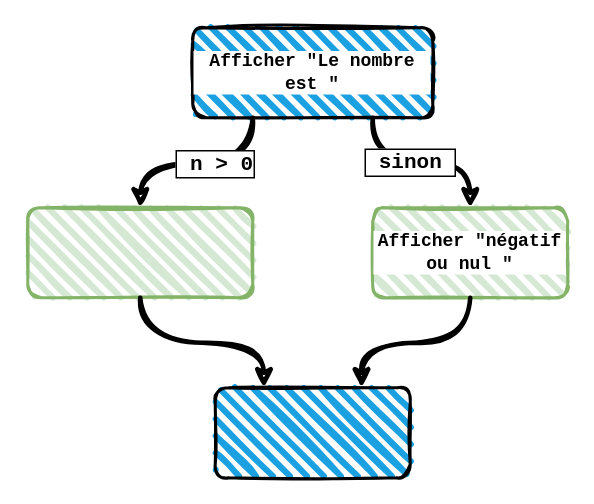
Image size: 594x504. Some labels were removed from this diagram. Here are the shapes that lost their labels. From the top down, the box of each, then its label:
(26, 206, 254, 298): Afficher "positif "
(213, 386, 411, 478): Afficher "Fin du programme"
